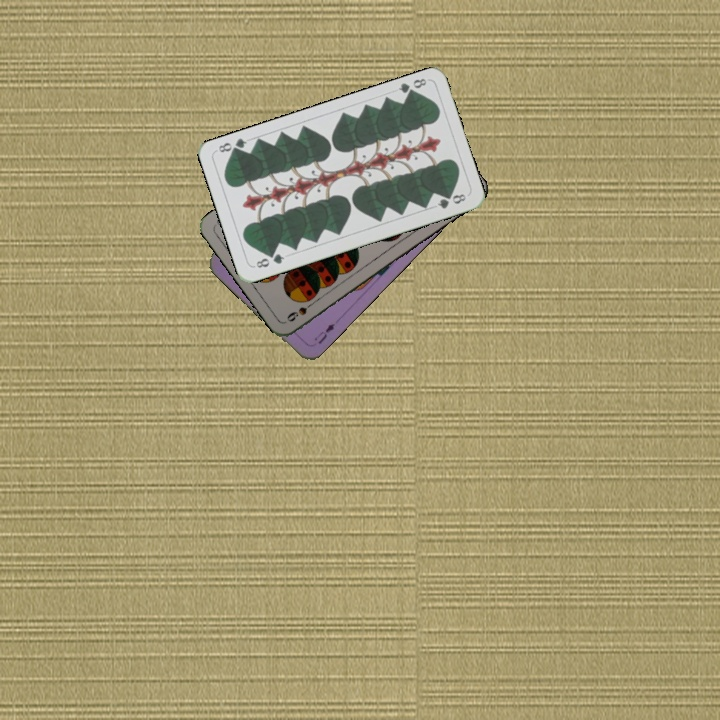EU: (310, 319, 338, 347)
G8: (394, 74, 429, 99), (252, 249, 287, 271)
S9: (283, 296, 319, 324)
